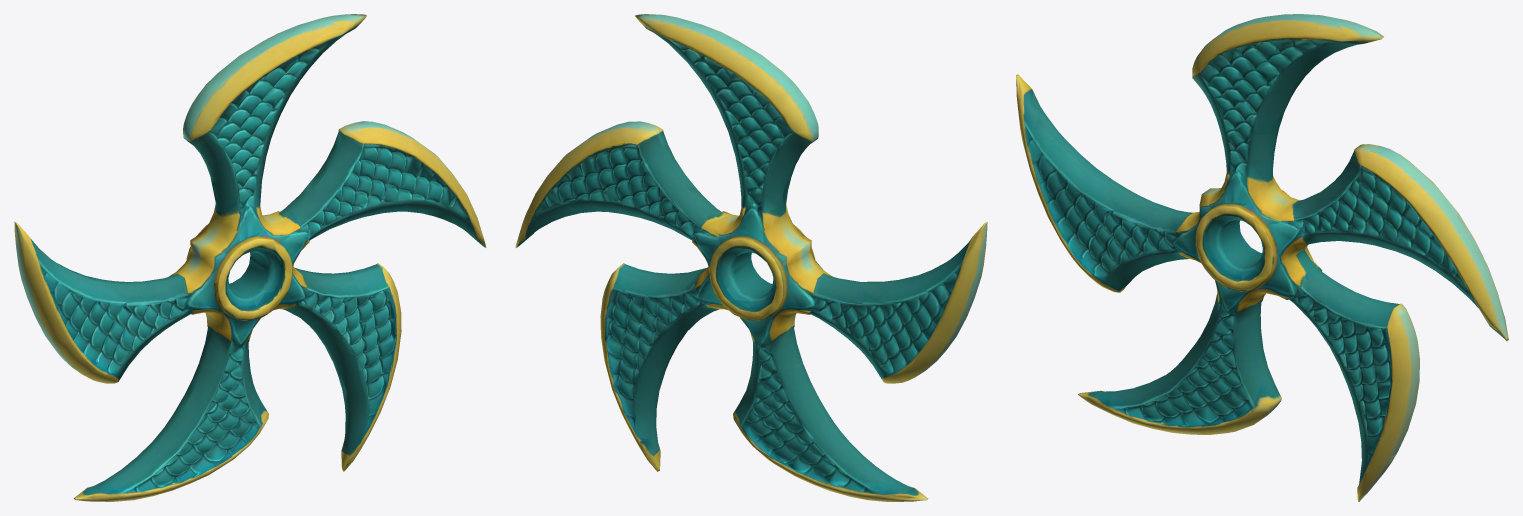
File: prop_hayate_shuriken.fbx
3 views of the same model, side by side, from view 1: azimuth 30°, elevation 25°; view 2: azimuth 150°, elevation 25°; view 3: azimuth 330°, elevation 25° (orthographic). The views are drawn at different scales.
Parts seen in each view (by area): view 1: tripo_node_97df9544-4463-4707-b936-e848bbeeb100; view 2: tripo_node_97df9544-4463-4707-b936-e848bbeeb100; view 3: tripo_node_97df9544-4463-4707-b936-e848bbeeb100.
Part boxes in pixels (bbox=[...]): tripo_node_97df9544-4463-4707-b936-e848bbeeb100: bbox=[14, 14, 486, 501]; tripo_node_97df9544-4463-4707-b936-e848bbeeb100: bbox=[515, 14, 987, 501]; tripo_node_97df9544-4463-4707-b936-e848bbeeb100: bbox=[1016, 14, 1508, 501].
Size of the model in its own units: 0.98 by 0.9055 by 0.1178.
